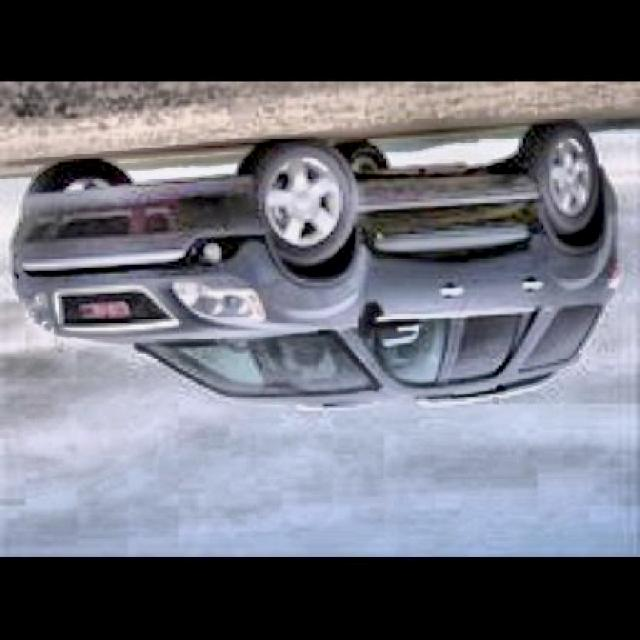black: (34, 99, 598, 400)
